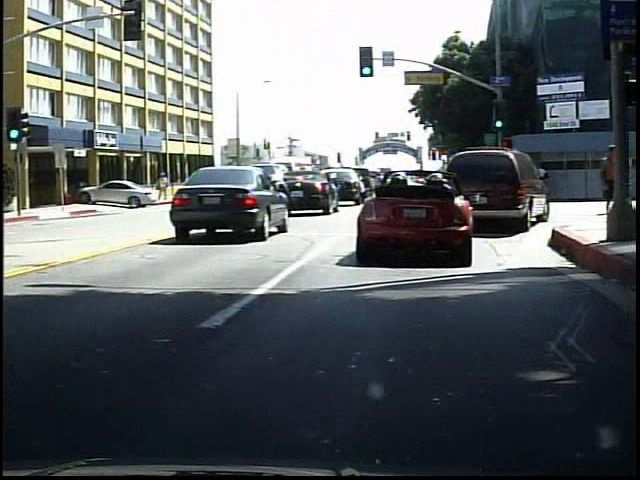person: (587, 140, 615, 223), (154, 171, 165, 204)
